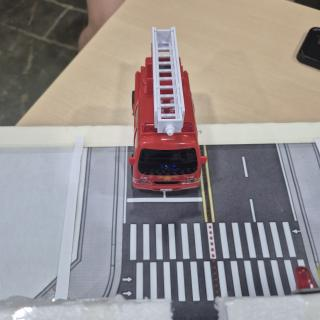Fire_truck: (128, 27, 206, 191)
